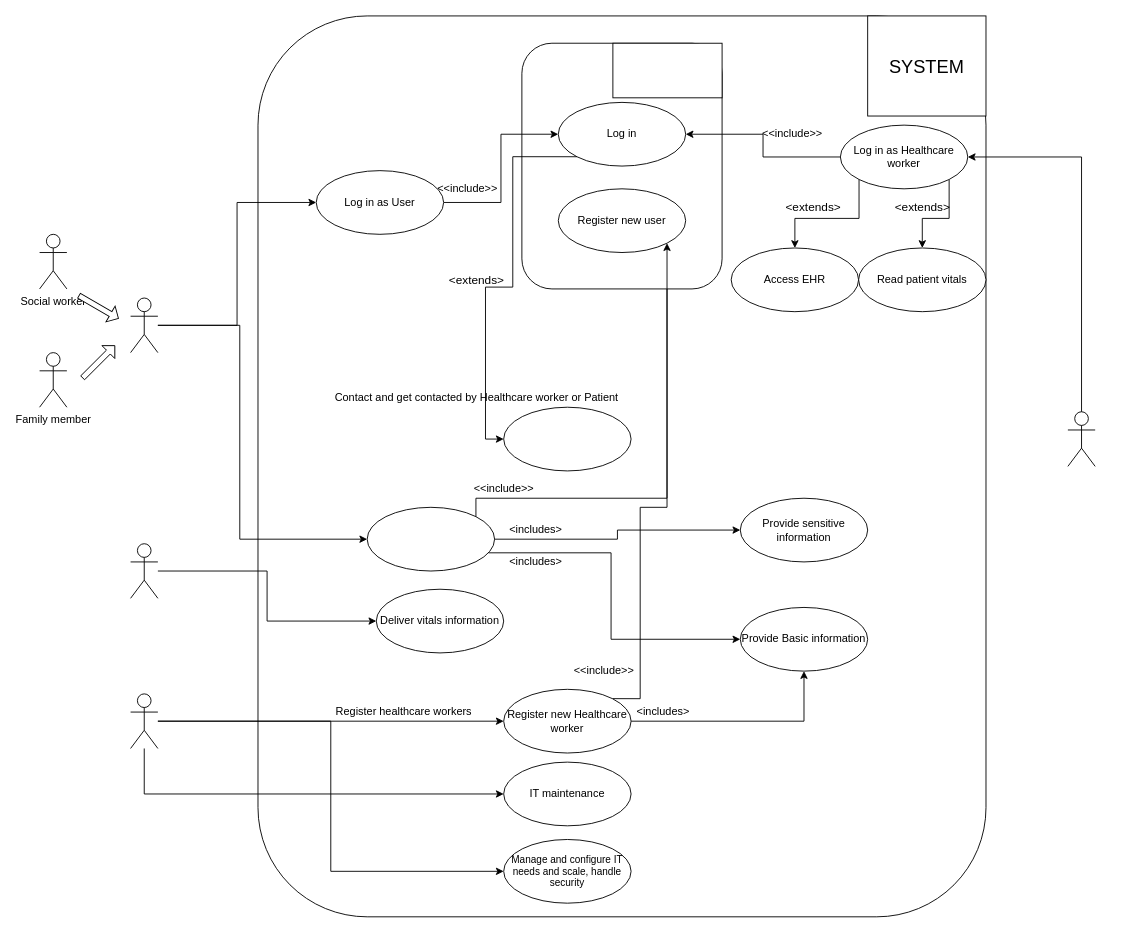
The diagram is 1141 pixels wide and 933 high, and some of its shapes have lost their labels. Each missing label, with the centre of its shape:
"AUTHENTICATION SYSTEM" goes at [667,70].
"Contact" goes at [567,438].
"Healthcare worker" goes at [1081,438].
"Patient" goes at [144,325].
"Patient at-home devices" goes at [144,570].
"Register new Patient" goes at [430,538].
"System Adminiistrator" goes at [144,720].
